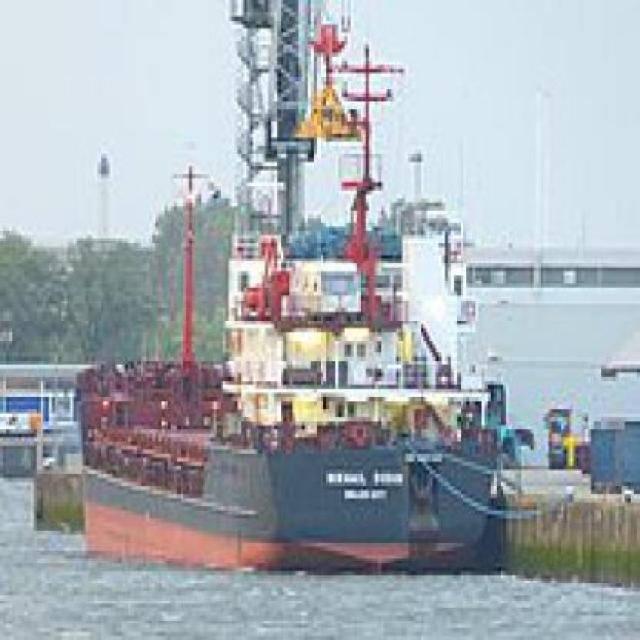container: (71, 41, 528, 584)
